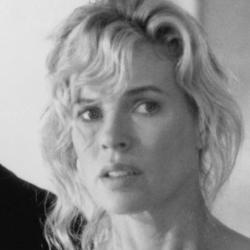face: (34, 3, 237, 232)
